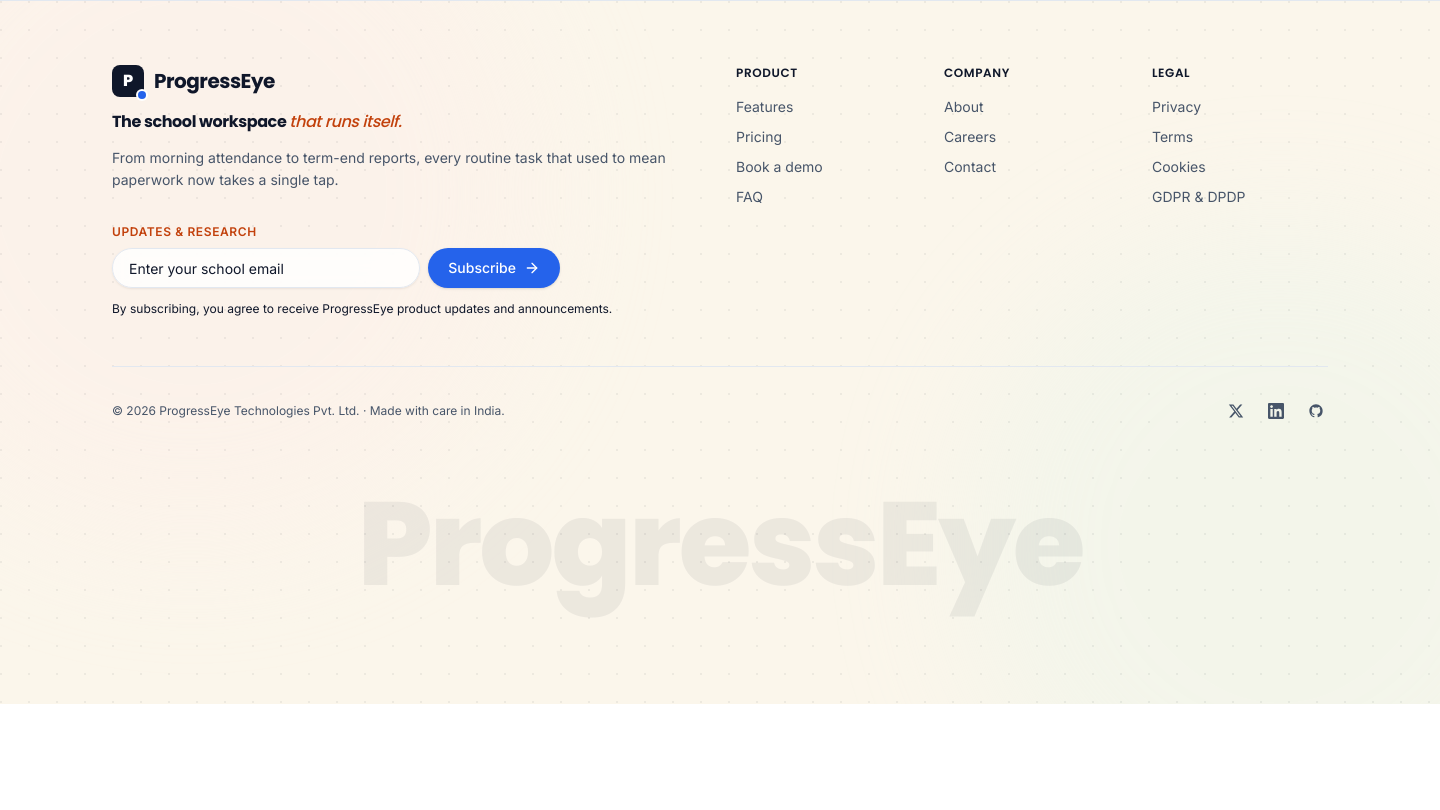
Test: Footer & Newsletter Form Unit Tests › displays informative not-connected state notice on submission (zero fake success, flag-OFF byte-identical to Phase 8)
Type "principal@delhischool.edu.in" into the field with placeholder "Enter your school email" at (266, 268), box [112, 248, 420, 288]
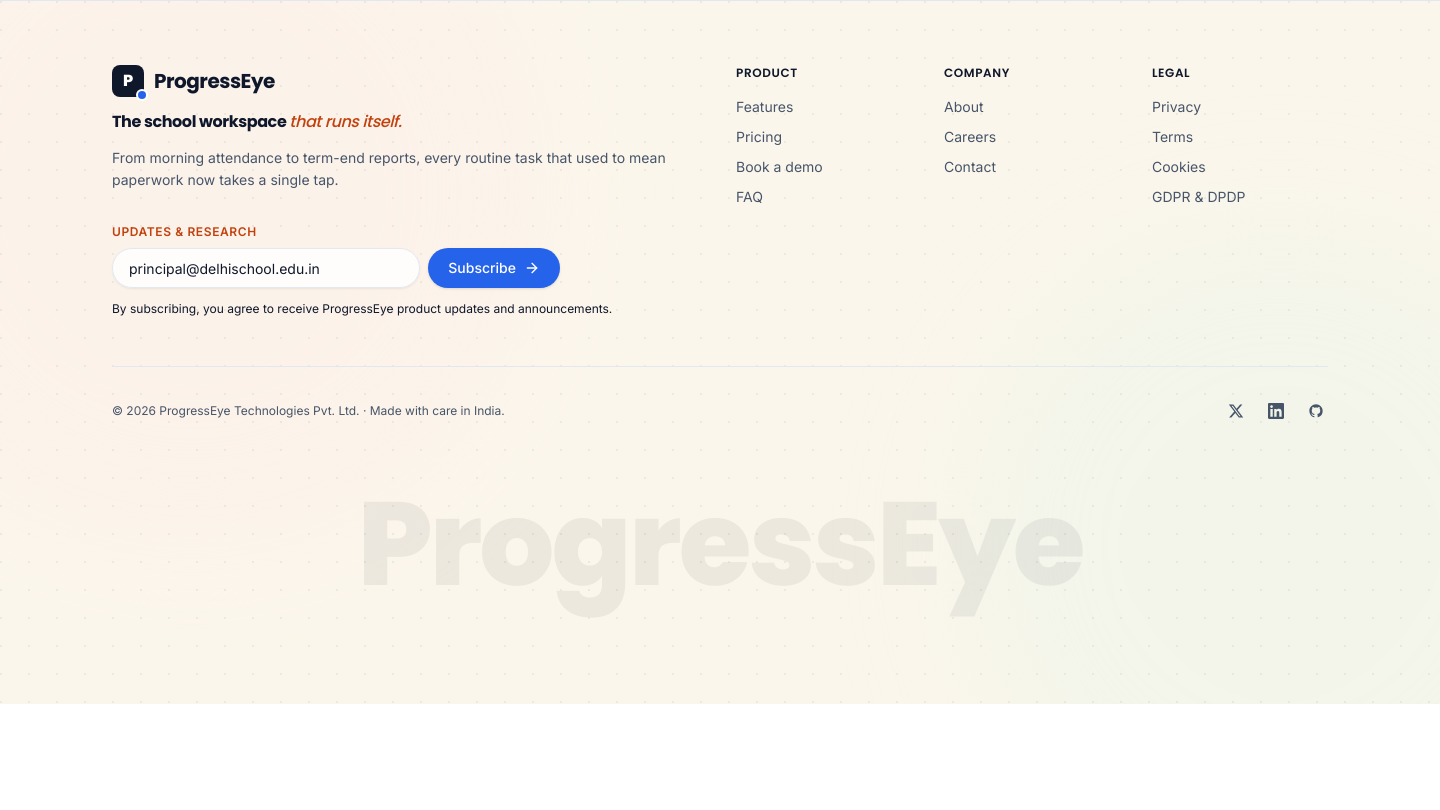
Click the button "Subscribe" at (494, 268), box [428, 248, 560, 288]
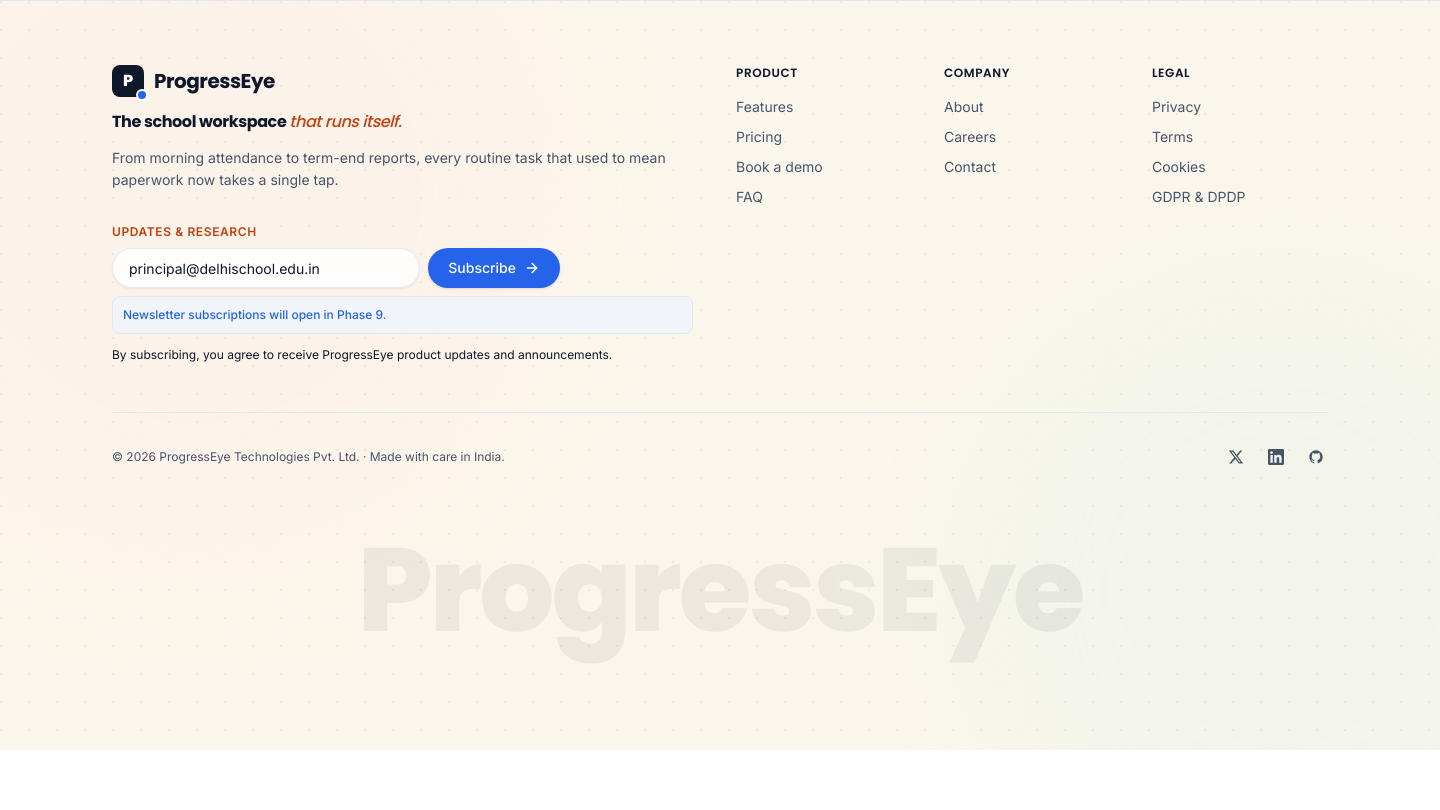
Result: the text "Newsletter subscriptions will open in Phase 9." is shown at [112, 296, 693, 334]
Result: the text with class "font-medium" reads "Newsletter subscriptions will open in Phase 9." at [123, 307, 386, 322]
